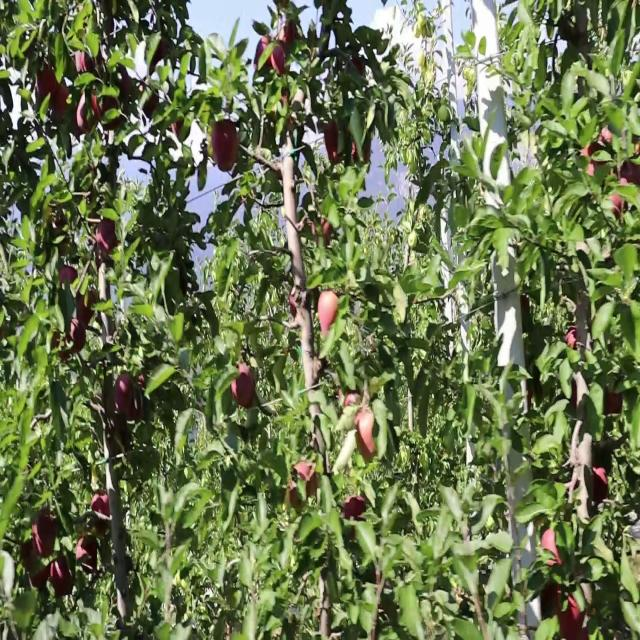apple: (52, 319, 88, 363), (20, 540, 51, 590), (288, 462, 320, 510), (212, 120, 240, 171), (556, 590, 585, 639), (116, 376, 146, 423), (32, 511, 59, 562), (232, 362, 256, 411), (356, 412, 377, 462), (344, 497, 368, 540), (52, 554, 74, 599), (108, 419, 132, 459), (96, 220, 119, 261), (540, 533, 565, 569), (324, 120, 344, 165), (36, 63, 59, 101), (280, 92, 303, 130), (320, 291, 340, 334), (92, 490, 112, 533), (76, 533, 98, 571), (76, 291, 99, 327), (52, 328, 75, 363), (276, 92, 299, 126), (68, 319, 88, 356), (76, 99, 96, 135), (584, 142, 605, 176), (544, 583, 563, 617), (52, 85, 70, 119), (256, 35, 272, 73), (280, 21, 299, 52), (288, 284, 307, 315), (352, 136, 372, 165), (272, 42, 288, 78), (604, 391, 624, 418), (312, 220, 332, 247), (76, 49, 95, 75), (620, 163, 640, 187), (60, 263, 79, 286), (564, 327, 580, 352), (92, 92, 104, 123), (344, 391, 361, 411), (612, 191, 624, 219), (352, 56, 366, 78), (596, 469, 608, 494)
